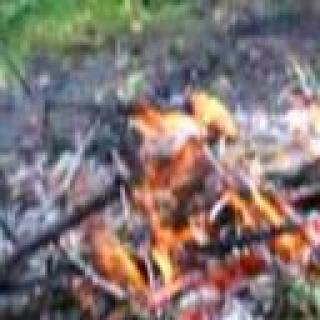fire: (74, 102, 320, 301)
